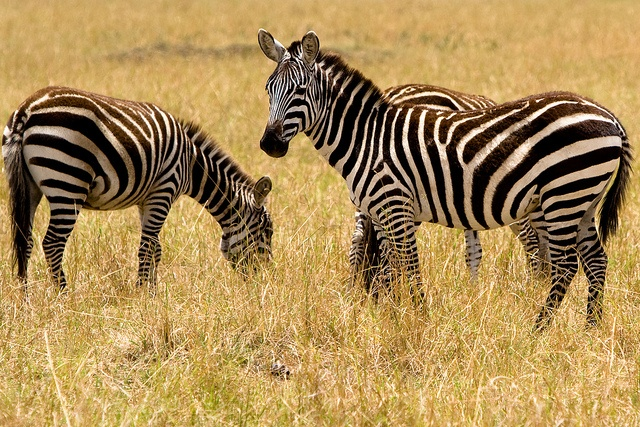zebra: (255, 28, 633, 333), (0, 84, 272, 292)
